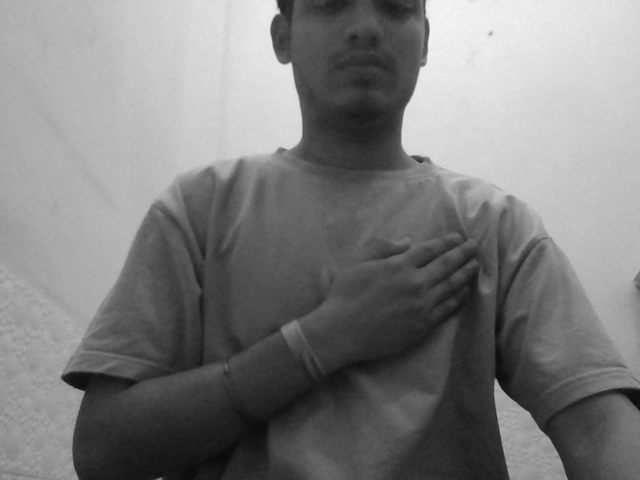Sorry: (303, 217, 509, 416)
